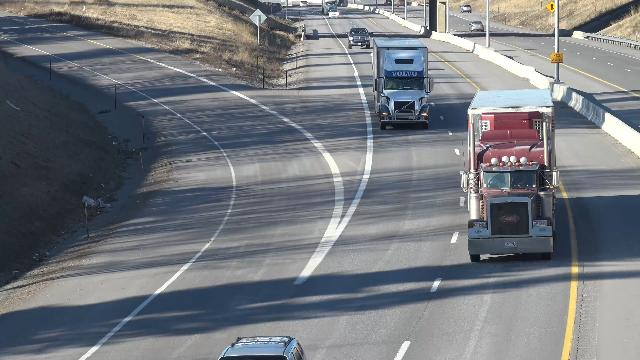car: (348, 25, 372, 51), (468, 19, 486, 34)
truck: (462, 81, 559, 260), (371, 36, 436, 128)
